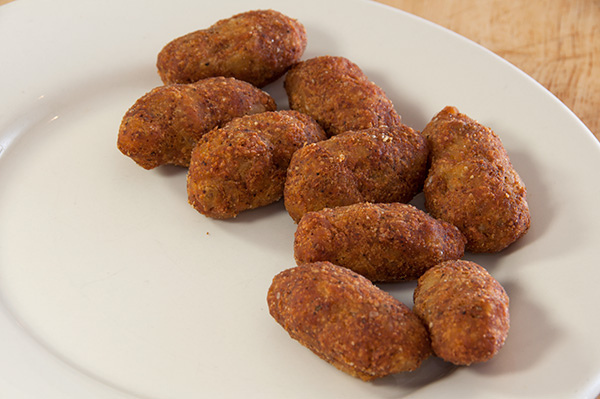meatballs: (258, 257, 426, 375), (427, 105, 532, 259), (180, 113, 312, 205), (283, 56, 418, 141), (289, 203, 466, 265), (148, 6, 299, 78), (113, 81, 272, 149), (279, 135, 424, 206), (409, 260, 511, 358)
